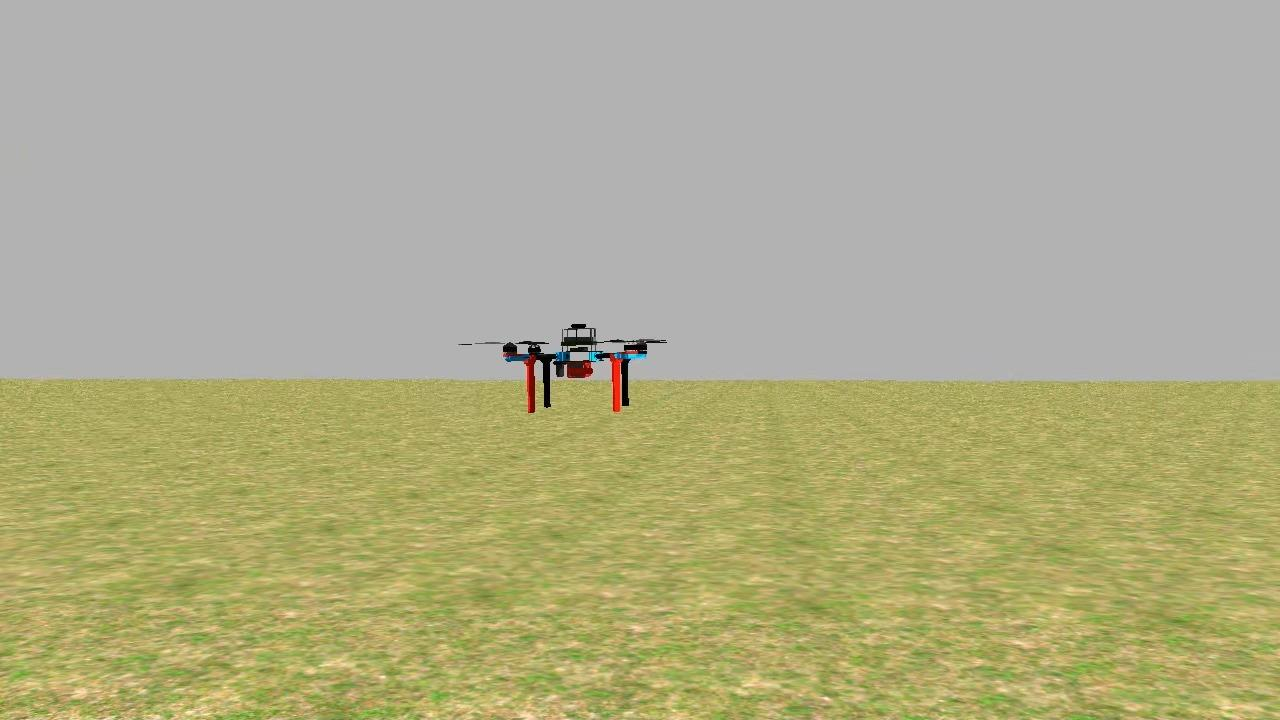UAV: (490, 300, 659, 429)
